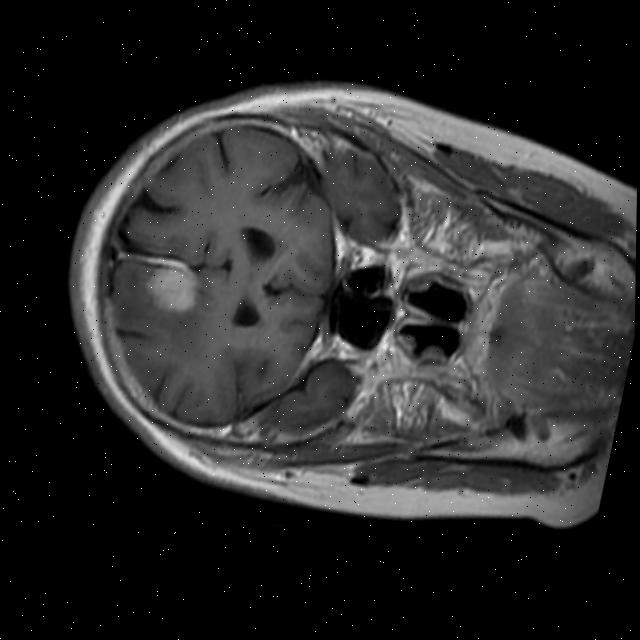Meningioma: (133, 249, 206, 317)
